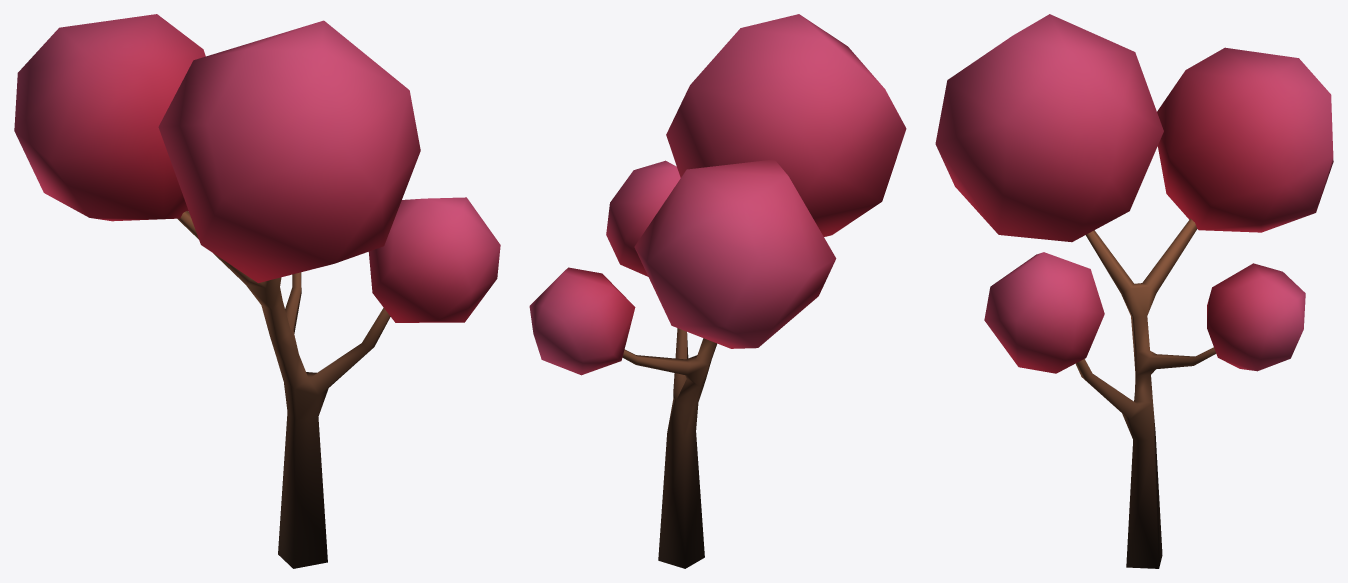
The picture shows the model from 3 angles, left to right: view 1: azimuth 30°, elevation 25°; view 2: azimuth 150°, elevation 25°; view 3: azimuth 270°, elevation 25°; orthographic projection. The views are drawn at different scales.
Visible parts, largest first — view 1: TreeRC2; view 2: TreeRC2; view 3: TreeRC2.
Boxes of the visible parts, bbox=[...] form: TreeRC2: bbox=[14, 14, 500, 568]; TreeRC2: bbox=[529, 14, 906, 568]; TreeRC2: bbox=[935, 14, 1333, 568].
Bounding box in the file's own units: 4.89 × 7.8 × 5.62.
1 material, 1 textured.
